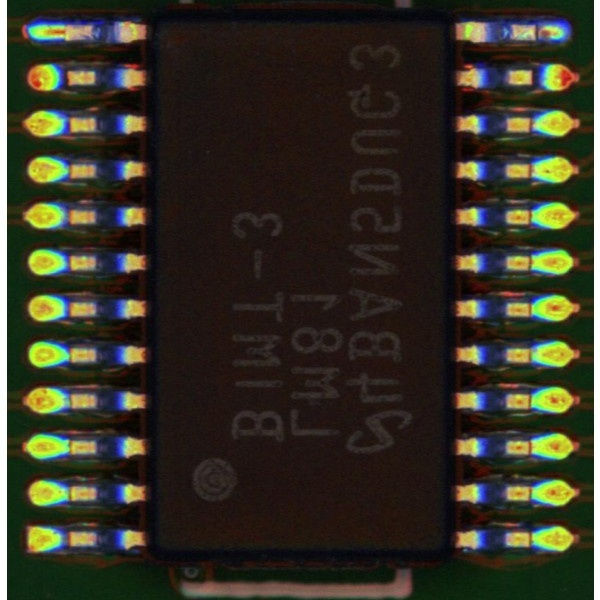Bad_podu: (523, 25, 552, 36), (51, 26, 77, 36)
